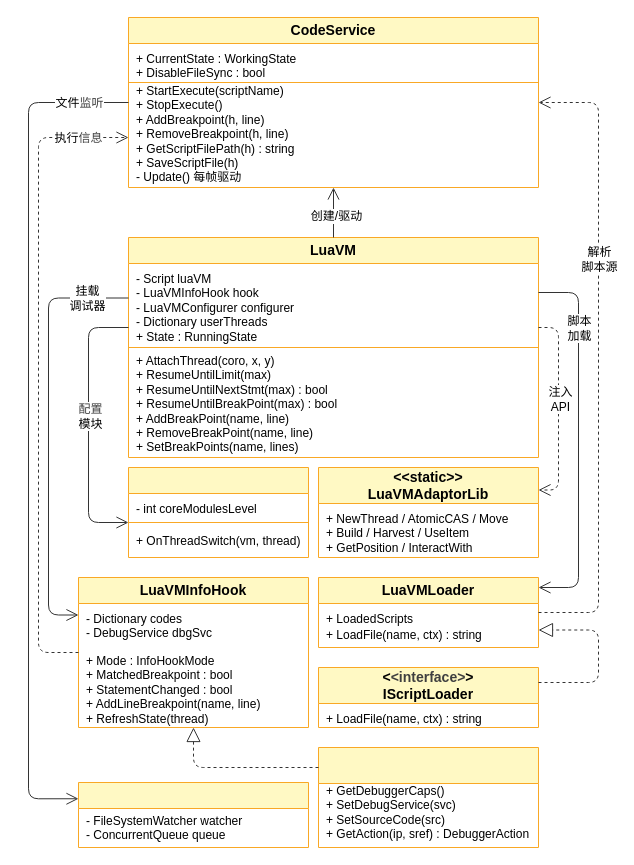
Image size: 634x865. Some labels were removed from this diagram. Here are the shapes that lost their labels. From the top down, the box of each, then its label:
(128, 466, 308, 558): LuaVMConfigurer
(78, 782, 308, 848): ScriptWatcher
(318, 746, 538, 848): < < interface>> IDebugger
